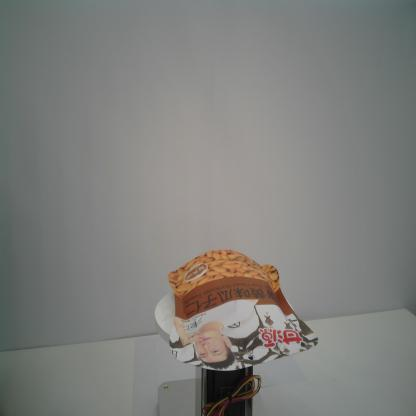Dried Fruit: (167, 249, 319, 372)
